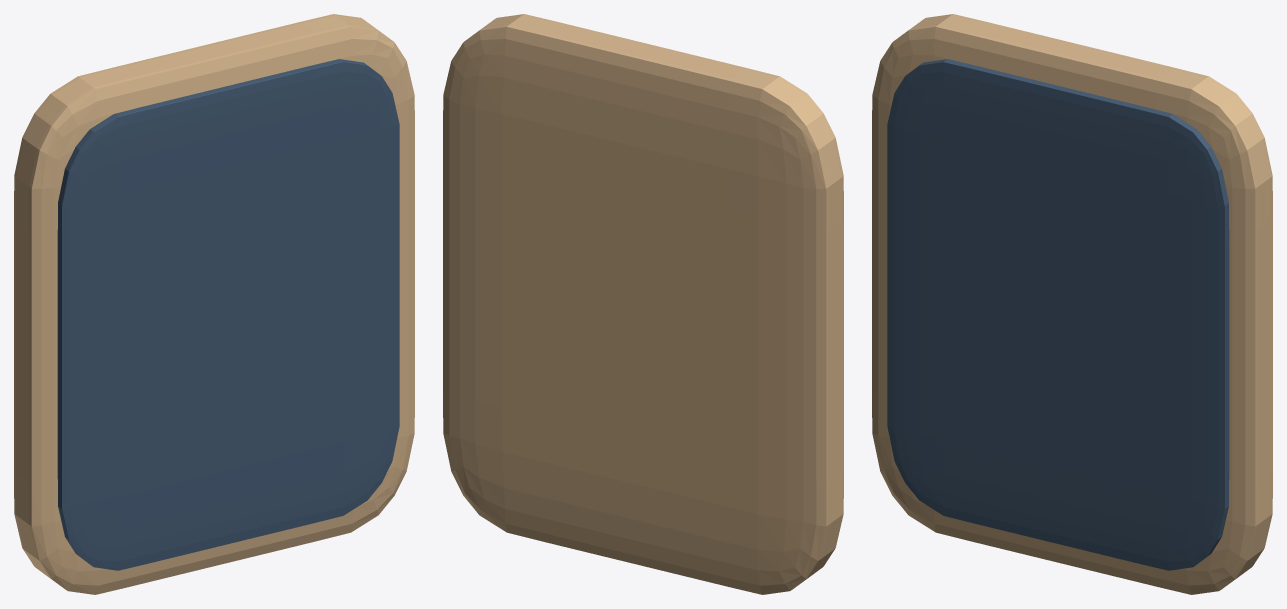
The model's file is blank-sign.glb.
The picture shows the model from 3 angles, left to right: view 1: azimuth 30°, elevation 25°; view 2: azimuth 150°, elevation 25°; view 3: azimuth 330°, elevation 25°; orthographic projection.
Visible parts, largest first — view 1: board, frame; view 2: frame; view 3: board, frame.
Part boxes in pixels (x1,y1,x2,y2): board: (57,59,399,570); frame: (14,14,414,594); frame: (443,14,843,594); board: (887,59,1229,570); frame: (872,14,1272,594).
Size of the model in its own units: 0.84 by 1.06 by 0.116.
